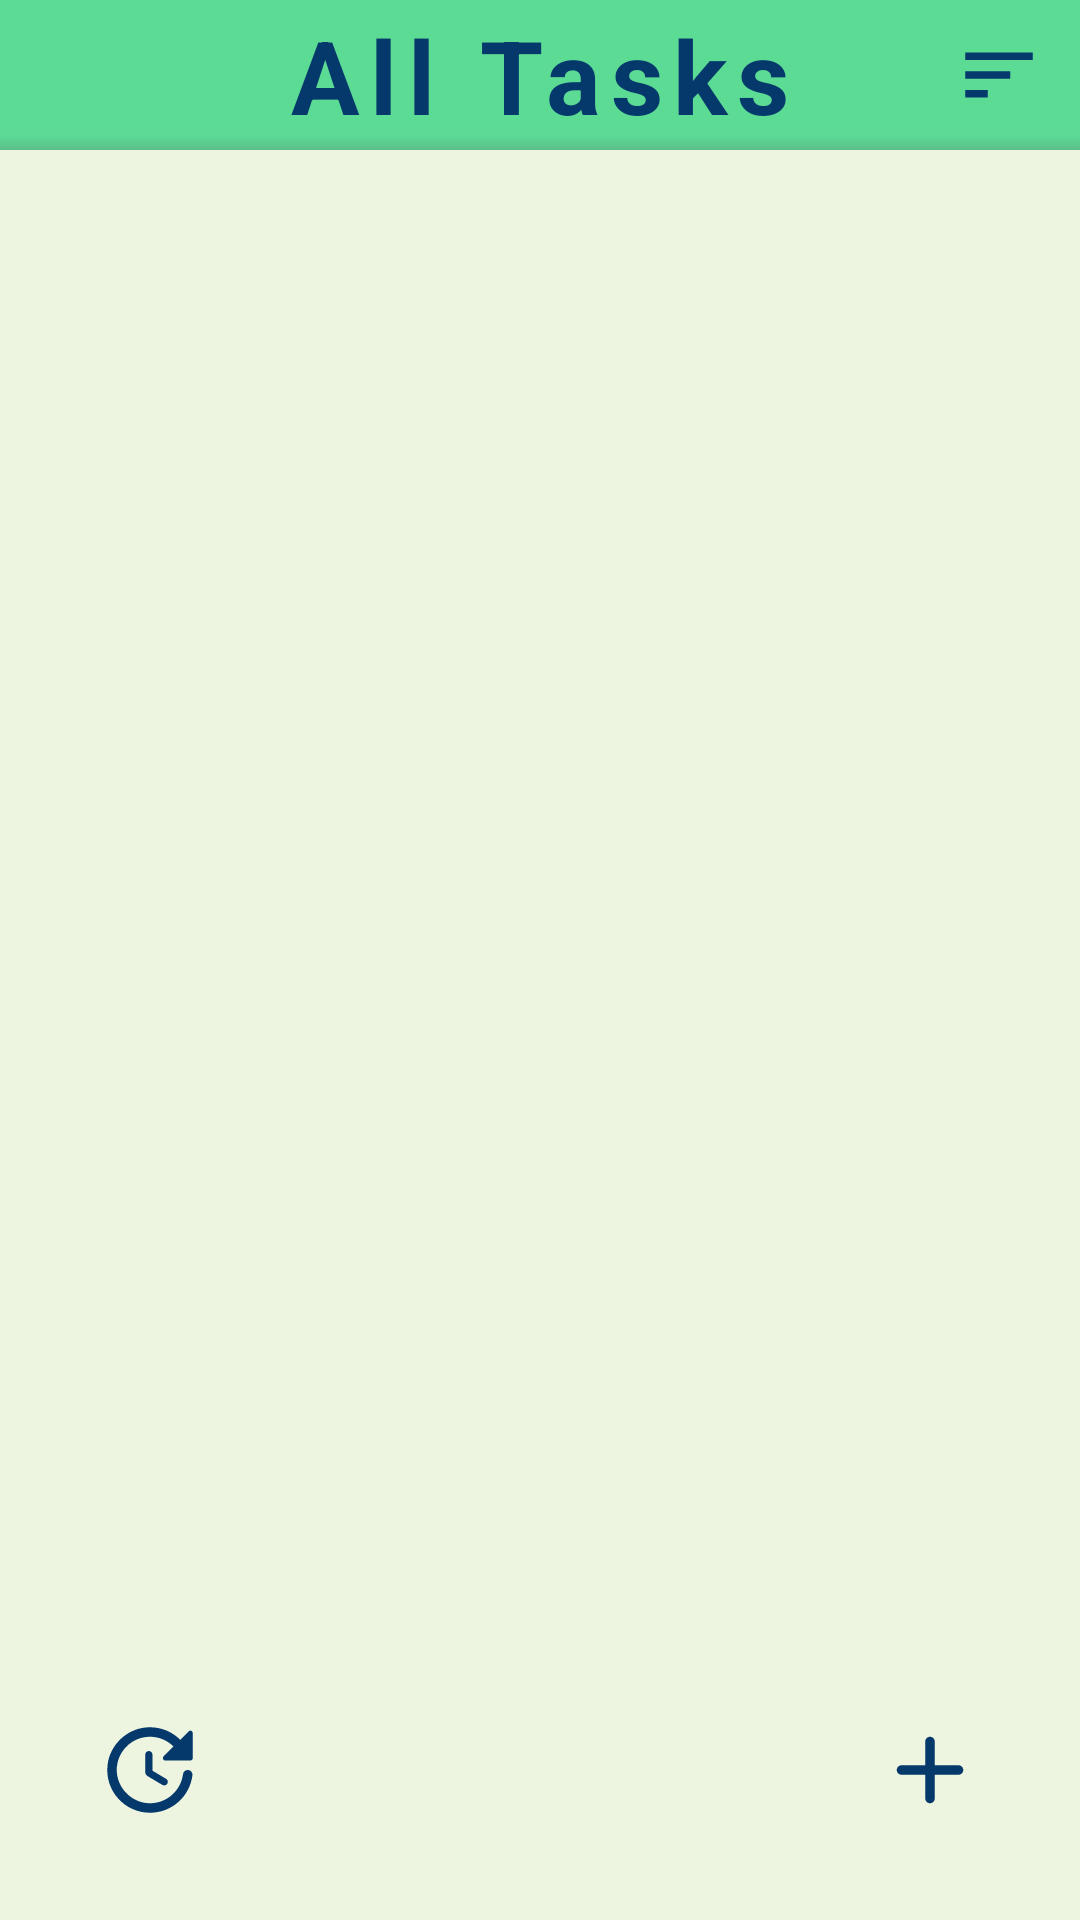

Screen size 1080*1920. Icon name, then its center in pixels as point (x, y):
add: point (930, 1770)
sort: point (999, 75)
update: point (150, 1770)
